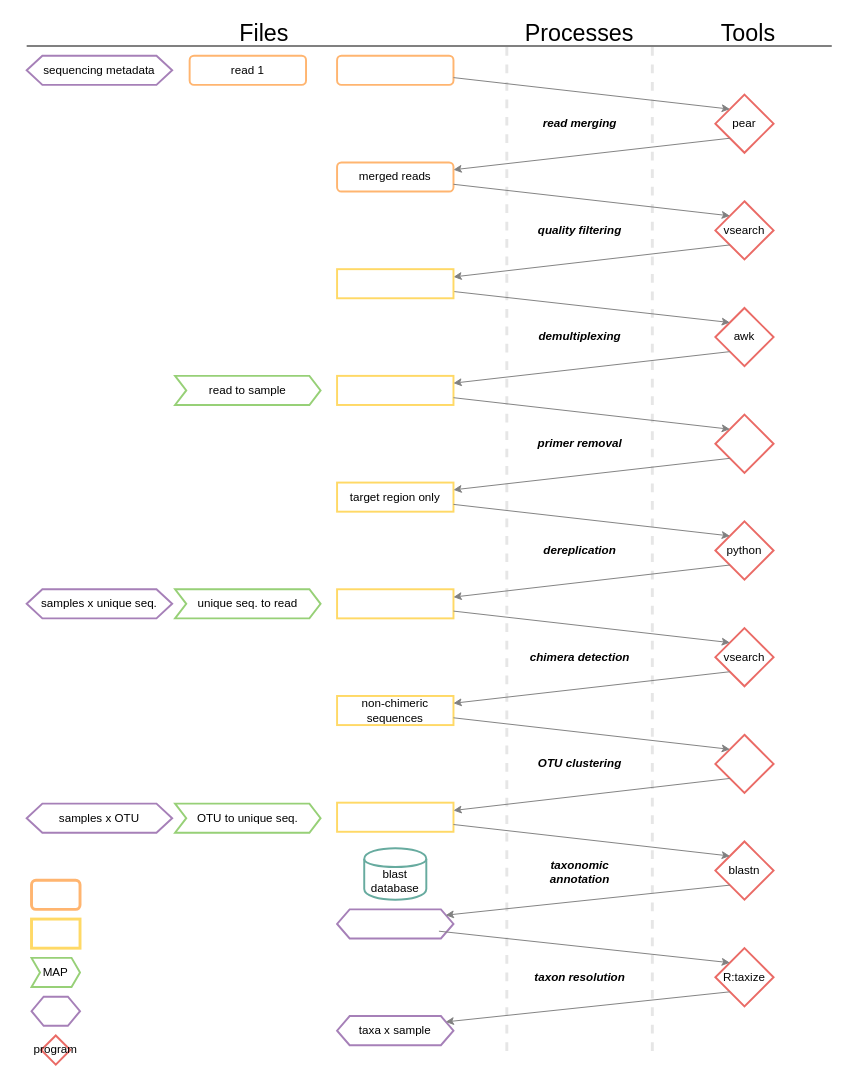
This 857x1082 diagram has some shape labels left out. Here are the shapes that lost their labels. From the top down, the centre of each, then its label:
the point at 395,69: read 2
the point at 395,283: filtered reads
the point at 395,389: demultiplexed reads
the point at 744,443: cutadapt
the point at 395,603: unique sequences
the point at 744,763: swarm
the point at 395,816: OTU sequences
the point at 55,894: FASTQ
the point at 55,933: FASTA
the point at 395,923: OTU x taxa
the point at 55,1010: TABLE
